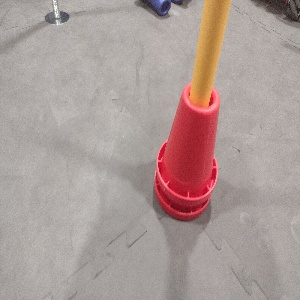Blue_1: (140, 0, 171, 15)
Red_2: (146, 79, 224, 222)
